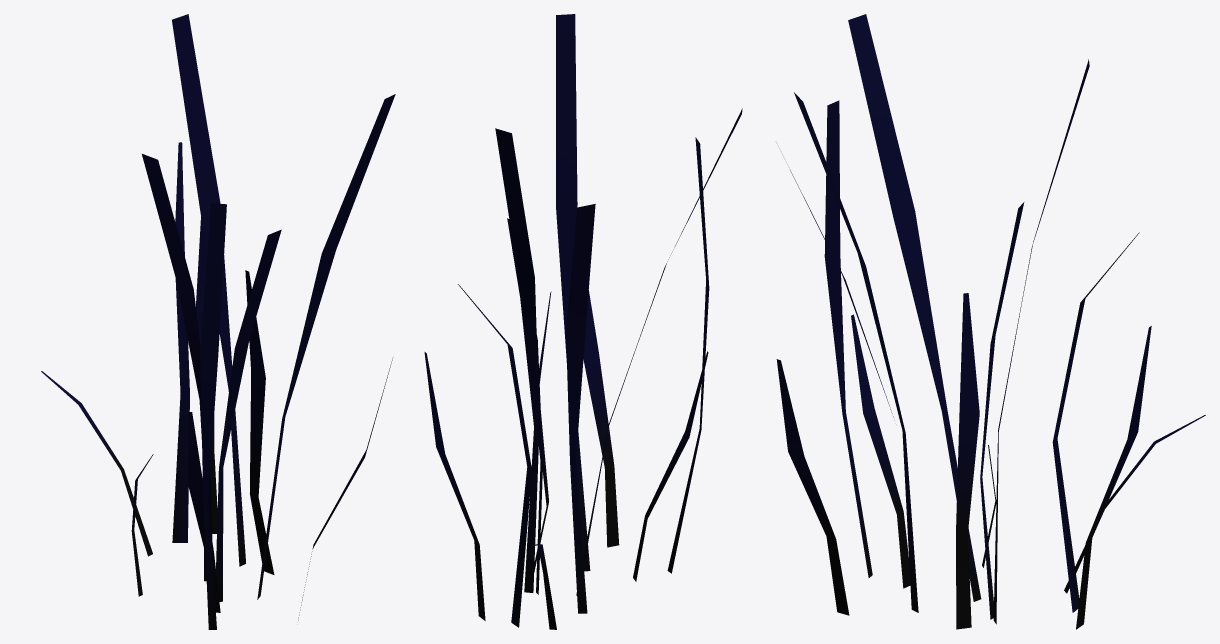
File: SM_Foliage_ReedDry_01.fbx
3 renders of one model, left to right at view 1: azimuth 30°, elevation 25°; view 2: azimuth 150°, elevation 25°; view 3: azimuth 270°, elevation 25°, orthographic. The views are drawn at different scales.
Visible parts, largest first — view 1: SM_Foliage_ReedDry_01; view 2: SM_Foliage_ReedDry_01; view 3: SM_Foliage_ReedDry_01.
Boxes of the visible parts, x1=… form: SM_Foliage_ReedDry_01: x1=41, y1=14, x2=395, y2=629; SM_Foliage_ReedDry_01: x1=424, y1=14, x2=742, y2=629; SM_Foliage_ReedDry_01: x1=776, y1=14, x2=1205, y2=629.
Bounding box in the file's own units: 60.49 × 95.88 × 135.
